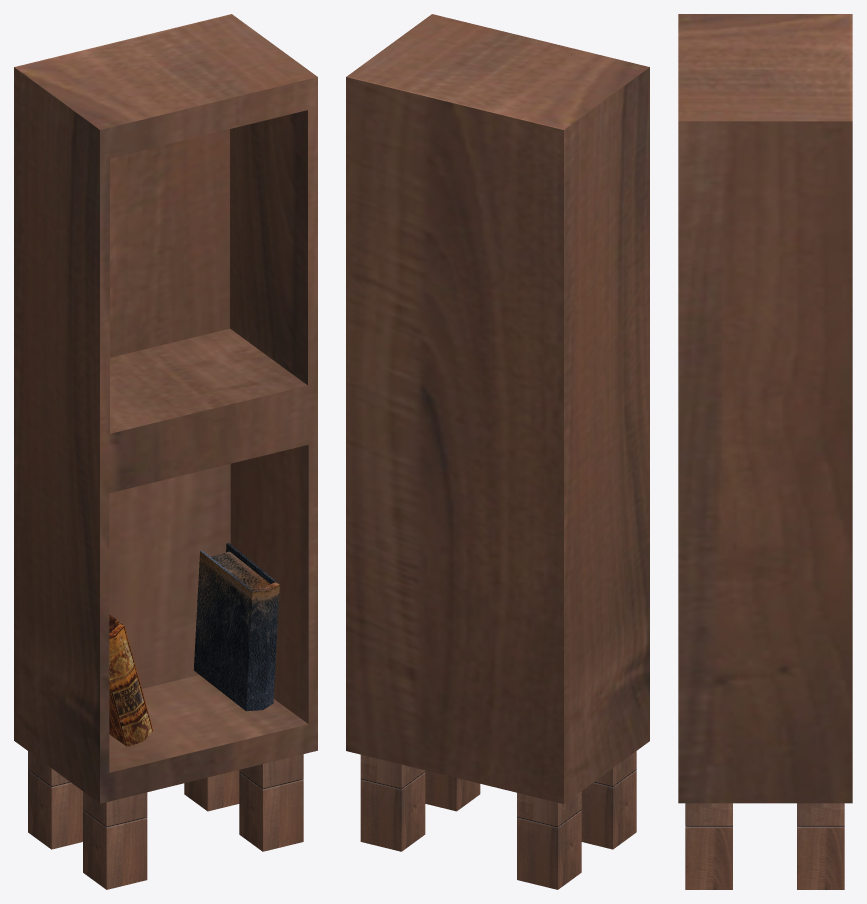
The model's file is librero.fbx.
3 renders of one model, left to right at view 1: azimuth 30°, elevation 25°; view 2: azimuth 150°, elevation 25°; view 3: azimuth 270°, elevation 25°, orthographic.
Parts seen in each view (by area): view 1: Estante; view 2: Estante; view 3: Estante.
Part boxes in pixels (x1,y1,x2,y2): Estante: (14,14,317,889); Estante: (346,14,649,889); Estante: (678,14,852,889).
Size of the model in its own units: 108 by 363 by 73.93.
